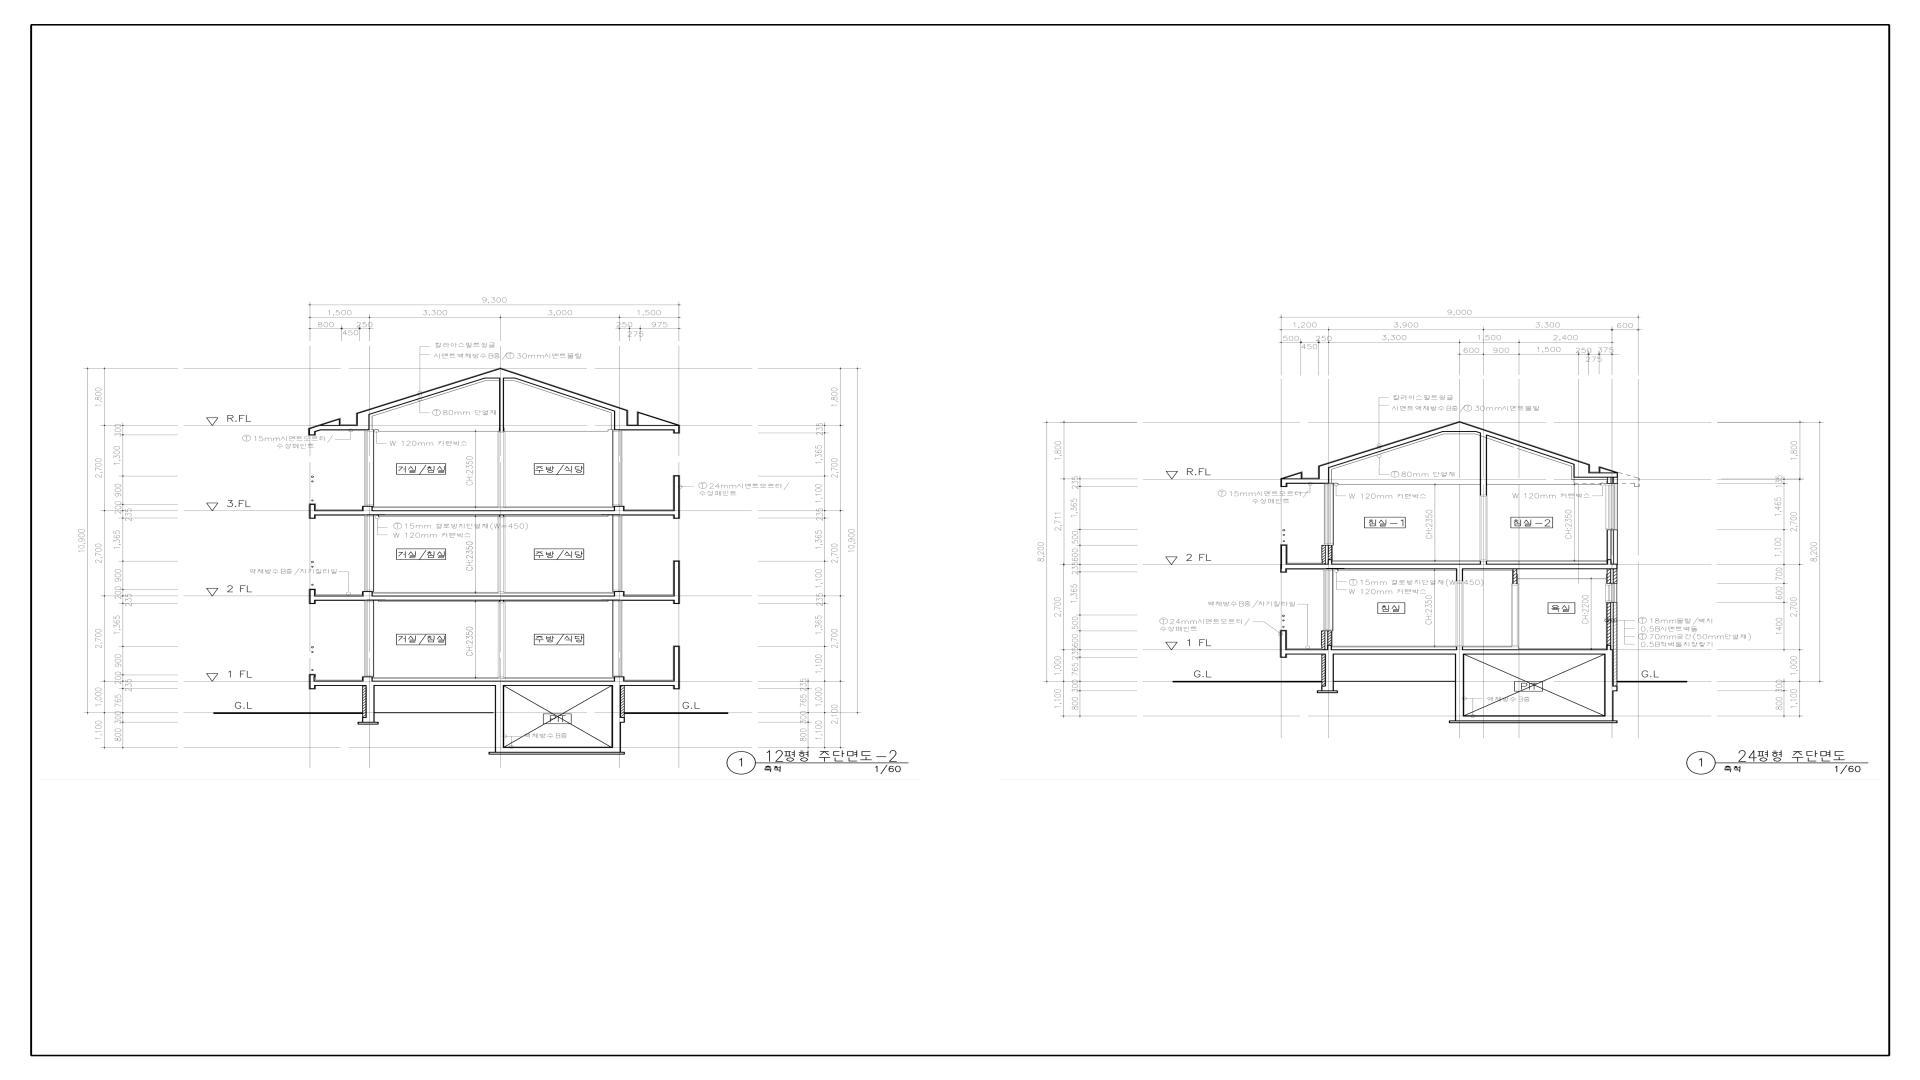door: (498, 602, 506, 678), (498, 431, 505, 508), (498, 516, 505, 593), (1456, 581, 1463, 647), (1480, 495, 1487, 561), (1512, 584, 1519, 647)
wall: (356, 368, 628, 430), (1319, 422, 1460, 468), (1460, 422, 1576, 464), (1287, 564, 1618, 569), (1287, 649, 1614, 654), (373, 596, 614, 601), (373, 510, 614, 515), (375, 681, 612, 686), (612, 676, 625, 753), (628, 411, 680, 430), (1574, 460, 1618, 478), (1455, 715, 1604, 720), (1281, 472, 1329, 487), (495, 747, 612, 753), (308, 418, 341, 436), (495, 686, 504, 747), (1455, 655, 1464, 715), (362, 686, 375, 723), (1321, 655, 1334, 690), (1480, 433, 1487, 495), (1607, 530, 1618, 564), (1604, 654, 1614, 691), (625, 509, 673, 516), (1607, 602, 1614, 649), (673, 475, 680, 519), (673, 560, 680, 604), (673, 646, 680, 689), (1604, 691, 1614, 721), (625, 595, 673, 601), (625, 680, 673, 686), (316, 680, 362, 686), (316, 595, 362, 601), (316, 510, 362, 516), (499, 378, 504, 431), (340, 424, 370, 430), (1280, 630, 1286, 658), (1281, 545, 1287, 573), (1325, 545, 1332, 564), (362, 676, 375, 686), (1325, 631, 1332, 649), (621, 686, 625, 717), (362, 686, 366, 717), (362, 591, 373, 601), (362, 506, 373, 516), (614, 591, 625, 601), (309, 674, 316, 689), (309, 589, 316, 604), (309, 504, 316, 519), (1319, 468, 1329, 478), (614, 506, 625, 515), (1456, 569, 1463, 580), (1512, 569, 1517, 584), (1607, 478, 1618, 484), (1610, 569, 1614, 583), (673, 430, 680, 434), (1480, 561, 1487, 564), (1614, 686, 1618, 691), (1456, 647, 1463, 649)
window: (364, 601, 374, 676), (365, 515, 374, 591), (365, 430, 374, 506), (613, 430, 622, 506), (613, 515, 622, 591), (613, 601, 622, 676), (1324, 483, 1334, 545), (1324, 569, 1333, 631), (1606, 484, 1618, 530), (1605, 583, 1617, 602)
